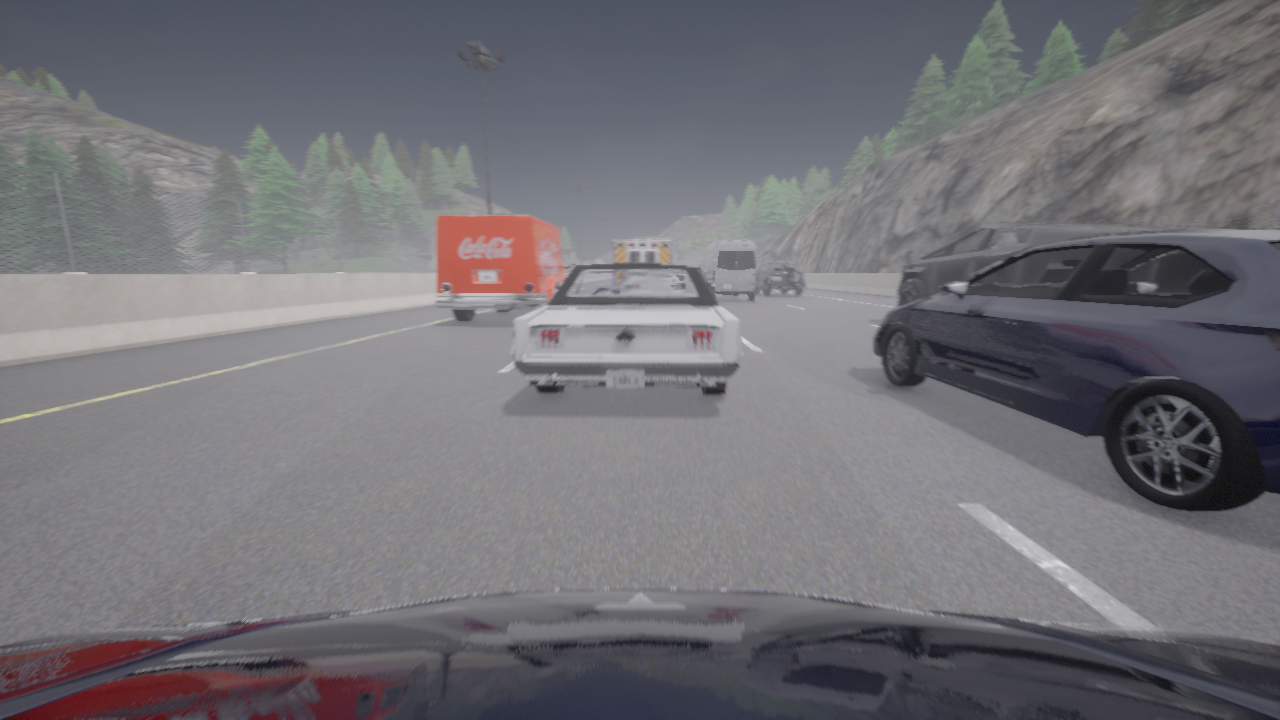cyclist: (0, 588, 1279, 719), (874, 229, 1279, 512), (511, 263, 741, 395), (897, 224, 1225, 307), (434, 215, 575, 321), (697, 240, 758, 301), (757, 261, 804, 295), (612, 240, 672, 265)
